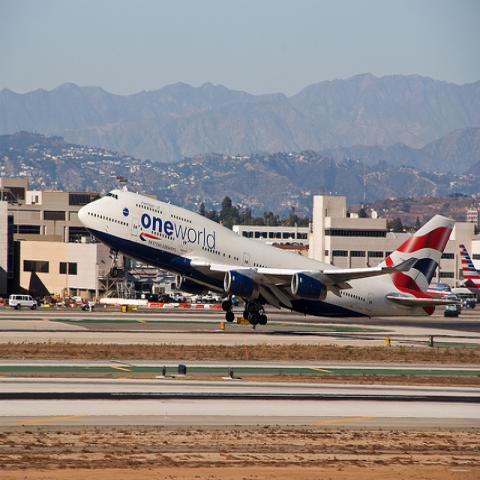car: (202, 294, 212, 302)
truck: (8, 295, 38, 310)
